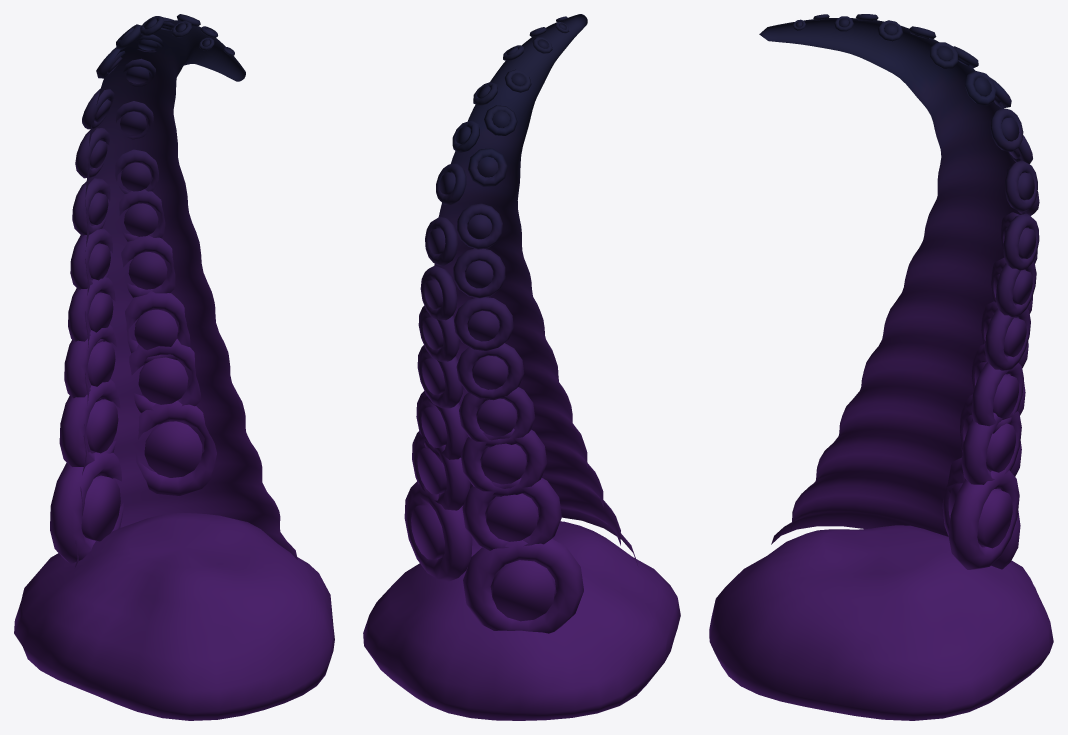
File: bishop_purple.glb
3 views of the same model, side by side, from view 1: azimuth 30°, elevation 25°; view 2: azimuth 150°, elevation 25°; view 3: azimuth 270°, elevation 25° (orthographic). The views are drawn at different scales.
Visible parts, largest first — view 1: bishop; view 2: bishop; view 3: bishop.
Part boxes in pixels (<box>): bishop: <box>14,14,334,720</box>; bishop: <box>363,14,680,720</box>; bishop: <box>709,14,1053,720</box>.
Size of the model in its own units: 0.4532 by 1 by 0.4879.
